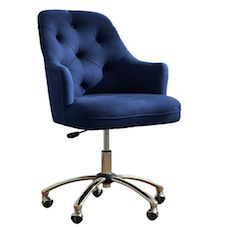chair: (27, 3, 179, 215)
